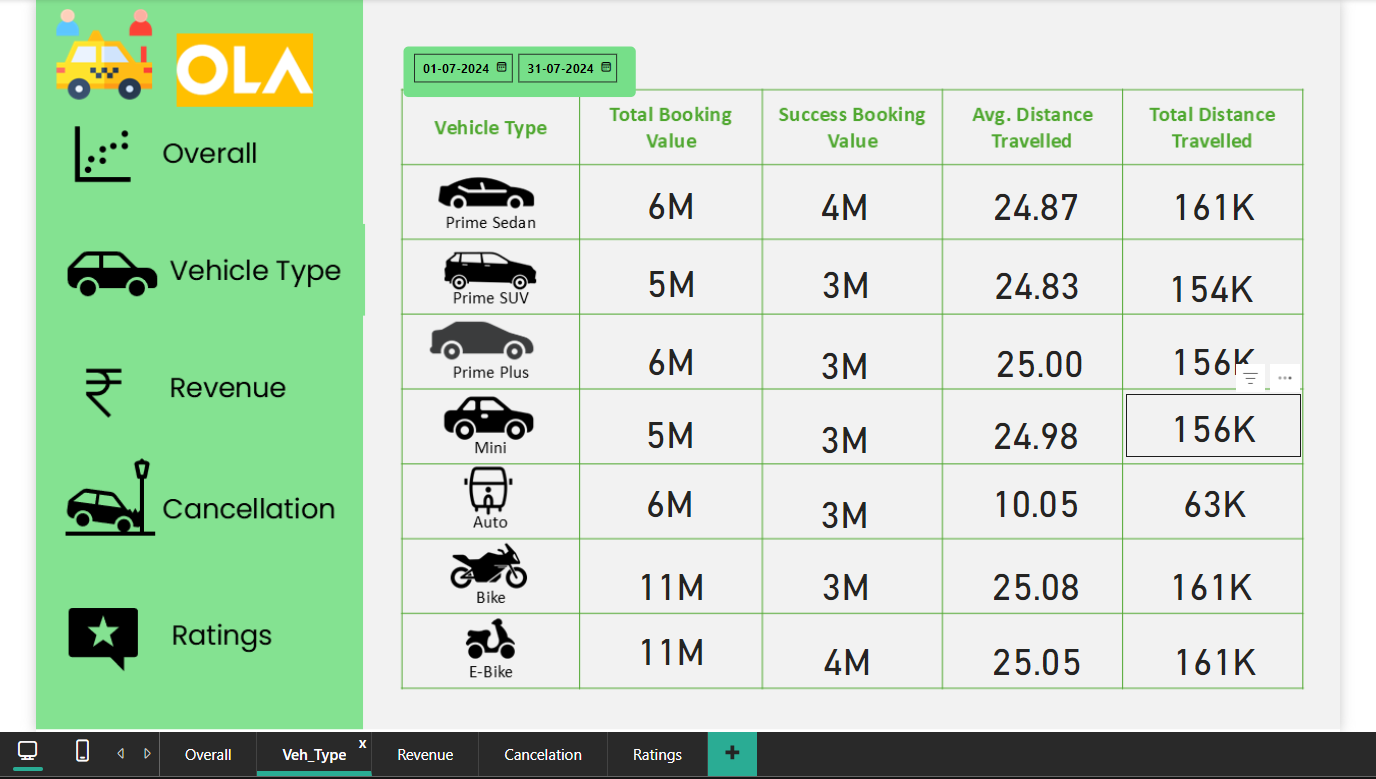

Layout of this report page (visuals, bound fields, positions):
{"tool":"powerbi","page":{"name":"Veh_Type","canvas":[1280,720],"ordinal":1},"visuals":[{"type":"actionButton","box":[0,450.3,321.5,83.4],"z":0},{"type":"actionButton","box":[0,342.3,321.5,83.4],"z":1000},{"type":"actionButton","box":[0,109.2,321.5,83.4],"z":2000},{"type":"actionButton","box":[0,585.3,321.5,83.4],"z":3000},{"type":"card","fields":{"Values":["Sum(ola_booking.Booking_Value)"]},"box":[537.9,168.8,171.5,61.7],"z":4000},{"type":"card","fields":{"Values":["Sum(ola_booking.Booking_Value)"]},"box":[537.9,245.6,171.5,61.7],"z":5000},{"type":"card","fields":{"Values":["Sum(ola_booking.Booking_Value)"]},"box":[536.5,393.8,171.5,61.7],"z":6000},{"type":"card","fields":{"Values":["Sum(ola_booking.Booking_Value)"]},"box":[537.9,322.5,171.5,61.7],"z":7000},{"type":"card","fields":{"Values":["Sum(ola_booking.Booking_Value)"]},"box":[536.5,461.1,171.5,61.7],"z":8000},{"type":"card","fields":{"Values":["Sum(ola_booking.Booking_Value)"]},"box":[537.9,543.4,171.5,61.7],"z":9000},{"type":"card","fields":{"Values":["Sum(ola_booking.Booking_Value)"]},"box":[537.9,607.9,171.5,61.7],"z":10000},{"type":"card","fields":{"Values":["Sum(ola_booking.Booking_Value)"]},"box":[708.1,170.2,171.5,61.7],"z":11000},{"type":"card","fields":{"Values":["Sum(ola_booking.Booking_Value)"]},"box":[709.4,247,171.5,61.7],"z":12000},{"type":"card","fields":{"Values":["Sum(ola_booking.Booking_Value)"]},"box":[708.1,472,171.5,61.7],"z":13000},{"type":"card","fields":{"Values":["Sum(ola_booking.Booking_Value)"]},"box":[709.4,543.4,171.5,61.7],"z":14000},{"type":"card","fields":{"Values":["Sum(ola_booking.Booking_Value)"]},"box":[710.8,617.5,171.5,61.7],"z":15000},{"type":"card","fields":{"Values":["Sum(ola_booking.Booking_Value)"]},"box":[708.1,326.6,171.5,61.7],"z":16000},{"type":"card","fields":{"Values":["Sum(ola_booking.Booking_Value)"]},"box":[708.1,399.3,171.5,61.7],"z":17000},{"type":"card","fields":{"Values":["Avg(ola_booking.Ride_Distance)"]},"box":[898.8,323.8,171.5,61.7],"z":18000},{"type":"card","fields":{"Values":["Avg(ola_booking.Ride_Distance)"]},"box":[896.1,395.2,171.5,61.7],"z":19000},{"type":"card","fields":{"Values":["Avg(ola_booking.Ride_Distance)"]},"box":[896.1,461.1,171.5,61.7],"z":20000},{"type":"card","fields":{"Values":["Avg(ola_booking.Ride_Distance)"]},"box":[896.1,543.4,171.5,61.7],"z":21000},{"type":"card","fields":{"Values":["Avg(ola_booking.Ride_Distance)"]},"box":[897.4,617.5,171.5,61.7],"z":22000},{"type":"card","fields":{"Values":["Avg(ola_booking.Ride_Distance)"]},"box":[896.1,170.2,171.5,61.7],"z":23000},{"type":"card","fields":{"Values":["Avg(ola_booking.Ride_Distance)"]},"box":[897.4,248.4,171.5,61.7],"z":24000},{"type":"card","fields":{"Values":["Sum(ola_booking.Ride_Distance)"]},"box":[1070.3,170.2,171.5,61.7],"z":25000},{"type":"card","fields":{"Values":["Sum(ola_booking.Ride_Distance)"]},"box":[1067.6,249.7,171.5,61.7],"z":26000},{"type":"card","fields":{"Values":["Sum(ola_booking.Ride_Distance)"]},"box":[1070.3,322.5,171.5,61.7],"z":27000},{"type":"card","fields":{"Values":["Sum(ola_booking.Ride_Distance)"]},"box":[1071.7,461.1,171.5,61.7],"z":28000},{"type":"card","fields":{"Values":["Sum(ola_booking.Ride_Distance)"]},"box":[1067.6,543.4,171.5,61.7],"z":29000},{"type":"card","fields":{"Values":["Sum(ola_booking.Ride_Distance)"]},"box":[1071.7,617.5,171.5,61.7],"z":30000},{"type":"card","fields":{"Values":["Sum(ola_booking.Ride_Distance)"]},"box":[1070.3,388.3,171.5,61.7],"z":31000},{"type":"slicer","title":"Date","fields":{"Values":["ola_booking.Date"]},"box":[360.9,46.7,227.8,49.4],"z":32000}]}

Visuals, with their boxes on the page's 1280x720 design canvas (x1, y1, x2, y2). These are canvas units, not pixel positions in the 1376x779 screenshot, which may show the page scaled, cropped or inside an application window:
actionButton: bbox(0, 450, 322, 534)
actionButton: bbox(0, 342, 322, 426)
actionButton: bbox(0, 109, 322, 193)
actionButton: bbox(0, 585, 322, 669)
card - Sum(ola_booking.Booking_Value): bbox(538, 169, 709, 230)
card - Sum(ola_booking.Booking_Value): bbox(538, 246, 709, 307)
card - Sum(ola_booking.Booking_Value): bbox(536, 394, 708, 456)
card - Sum(ola_booking.Booking_Value): bbox(538, 322, 709, 384)
card - Sum(ola_booking.Booking_Value): bbox(536, 461, 708, 523)
card - Sum(ola_booking.Booking_Value): bbox(538, 543, 709, 605)
card - Sum(ola_booking.Booking_Value): bbox(538, 608, 709, 670)
card - Sum(ola_booking.Booking_Value): bbox(708, 170, 880, 232)
card - Sum(ola_booking.Booking_Value): bbox(709, 247, 881, 309)
card - Sum(ola_booking.Booking_Value): bbox(708, 472, 880, 534)
card - Sum(ola_booking.Booking_Value): bbox(709, 543, 881, 605)
card - Sum(ola_booking.Booking_Value): bbox(711, 618, 882, 679)
card - Sum(ola_booking.Booking_Value): bbox(708, 327, 880, 388)
card - Sum(ola_booking.Booking_Value): bbox(708, 399, 880, 461)
card - Avg(ola_booking.Ride_Distance): bbox(899, 324, 1070, 386)
card - Avg(ola_booking.Ride_Distance): bbox(896, 395, 1068, 457)
card - Avg(ola_booking.Ride_Distance): bbox(896, 461, 1068, 523)
card - Avg(ola_booking.Ride_Distance): bbox(896, 543, 1068, 605)
card - Avg(ola_booking.Ride_Distance): bbox(897, 618, 1069, 679)
card - Avg(ola_booking.Ride_Distance): bbox(896, 170, 1068, 232)
card - Avg(ola_booking.Ride_Distance): bbox(897, 248, 1069, 310)
card - Sum(ola_booking.Ride_Distance): bbox(1070, 170, 1242, 232)
card - Sum(ola_booking.Ride_Distance): bbox(1068, 250, 1239, 311)
card - Sum(ola_booking.Ride_Distance): bbox(1070, 322, 1242, 384)
card - Sum(ola_booking.Ride_Distance): bbox(1072, 461, 1243, 523)
card - Sum(ola_booking.Ride_Distance): bbox(1068, 543, 1239, 605)
card - Sum(ola_booking.Ride_Distance): bbox(1072, 618, 1243, 679)
card - Sum(ola_booking.Ride_Distance): bbox(1070, 388, 1242, 450)
"Date" slicer: bbox(361, 47, 589, 96)
